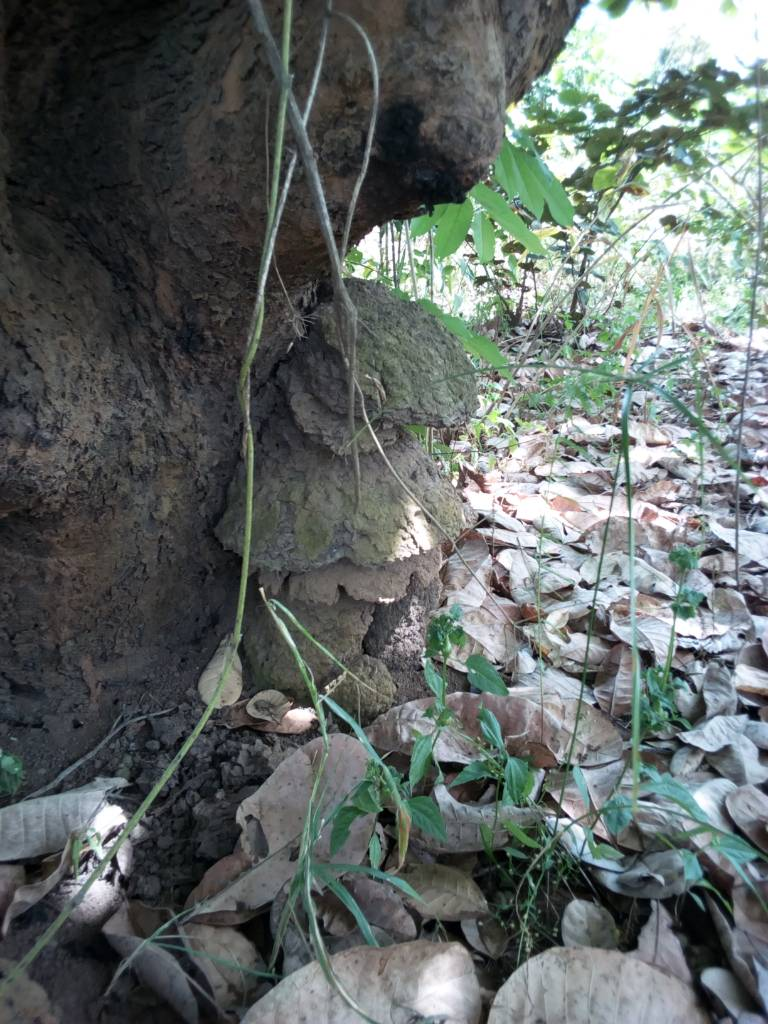Termites: (275, 308, 449, 692), (1, 289, 158, 710)
